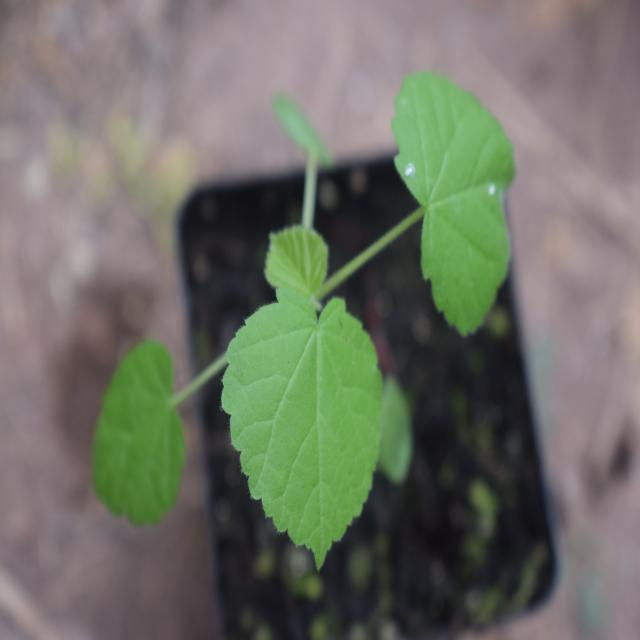abutilon theophrasti: (100, 67, 509, 554)
